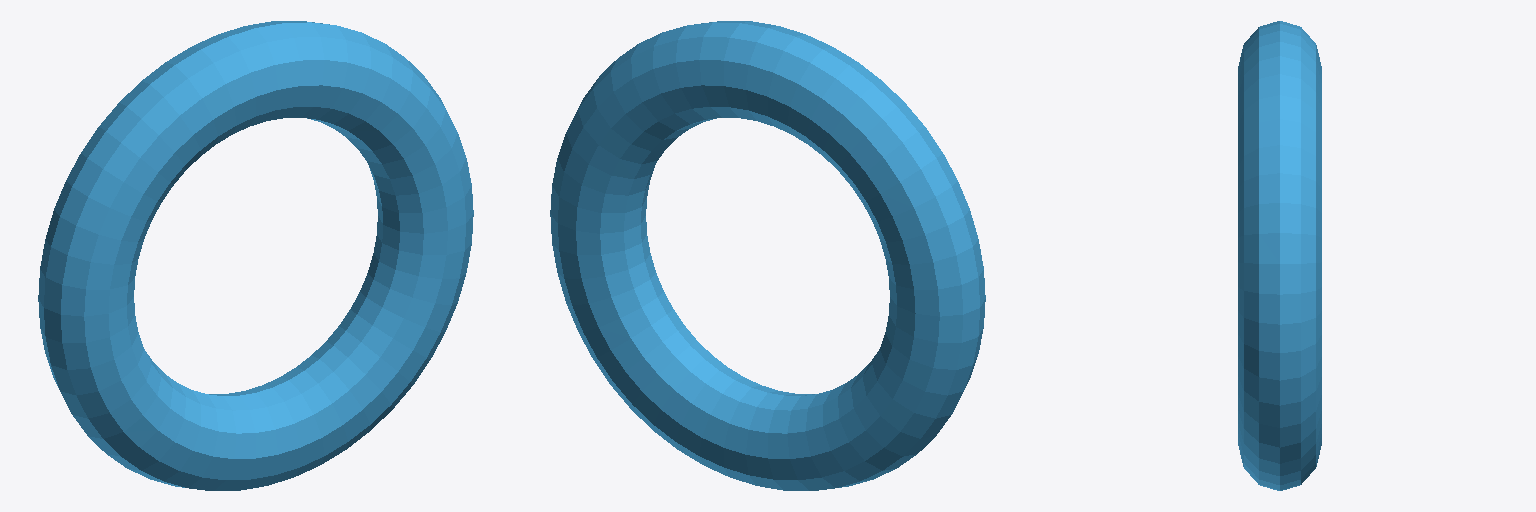
URDF robot description (generated_robot):
<robot name="generated_robot">
    <link name="hanoi_biggest_base" />
    <link name="hanoi_biggest">
        <visual name="door_frame-6">
            <origin xyz="0 0 0 " />
            <geometry>
                <mesh filename="hanoi_biggest.obj" />
            </geometry>
        </visual>
        <collision>
            <origin xyz="0 0 0 " />
            <geometry>
                <mesh filename="hanoi_biggest_collision.obj" />
            </geometry>
        </collision>
    </link>    
    <joint name="joint_0" type="fixed">
        <origin xyz="0 0 0" />
        <axis xyz="0 -1 0" />
        <child link="hanoi_biggest_base" />
        <parent link="hanoi_biggest" />
    </joint>
</robot>

--- What the picture shows (computed from the rendered views, not written in the file) ---
The picture shows the robot from 3 angles, left to right: view 1: azimuth 30°, elevation 25°; view 2: azimuth 150°, elevation 25°; view 3: azimuth 270°, elevation 25°; orthographic projection.
Model generated_robot with 2 links and 1 joints (1 fixed), rooted at hanoi_biggest, posed every joint at zero.
Links seen in each view (by area): view 1: hanoi_biggest; view 2: hanoi_biggest; view 3: hanoi_biggest.
Link boxes in pixels (bbox=[...]): hanoi_biggest: bbox=[38, 21, 473, 490]; hanoi_biggest: bbox=[550, 21, 985, 490]; hanoi_biggest: bbox=[1238, 21, 1321, 490].
Bounding box of the posed robot: 1.36 × 0.2478 × 1.4 m (x, y, z).
1 mesh visuals loaded from 1 distinct referenced files (1 OBJ).